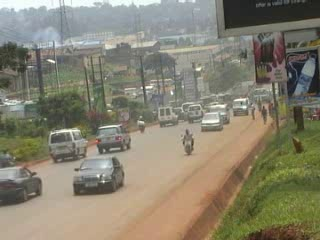Car: (72, 153, 124, 196), (0, 163, 44, 203), (94, 122, 133, 154), (155, 105, 180, 128), (199, 112, 224, 133), (185, 102, 203, 124), (172, 103, 185, 121)
Motorcycle: (178, 127, 196, 156), (0, 145, 18, 167), (136, 113, 145, 134)
